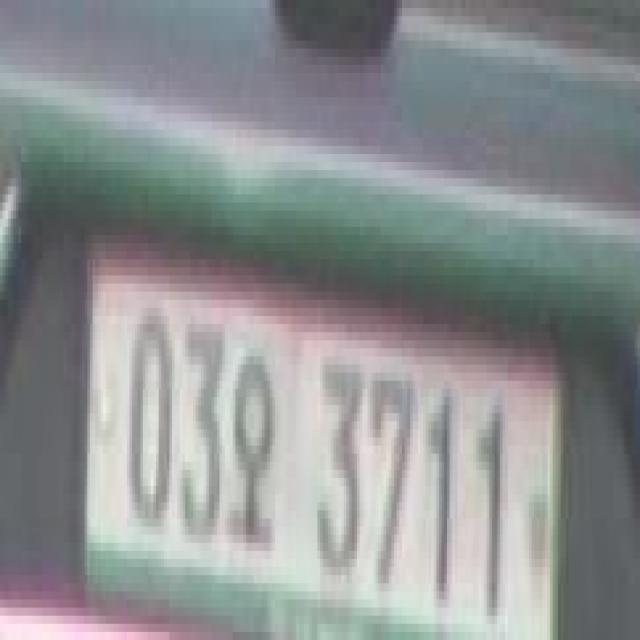illegal_plate: (79, 260, 569, 640)
